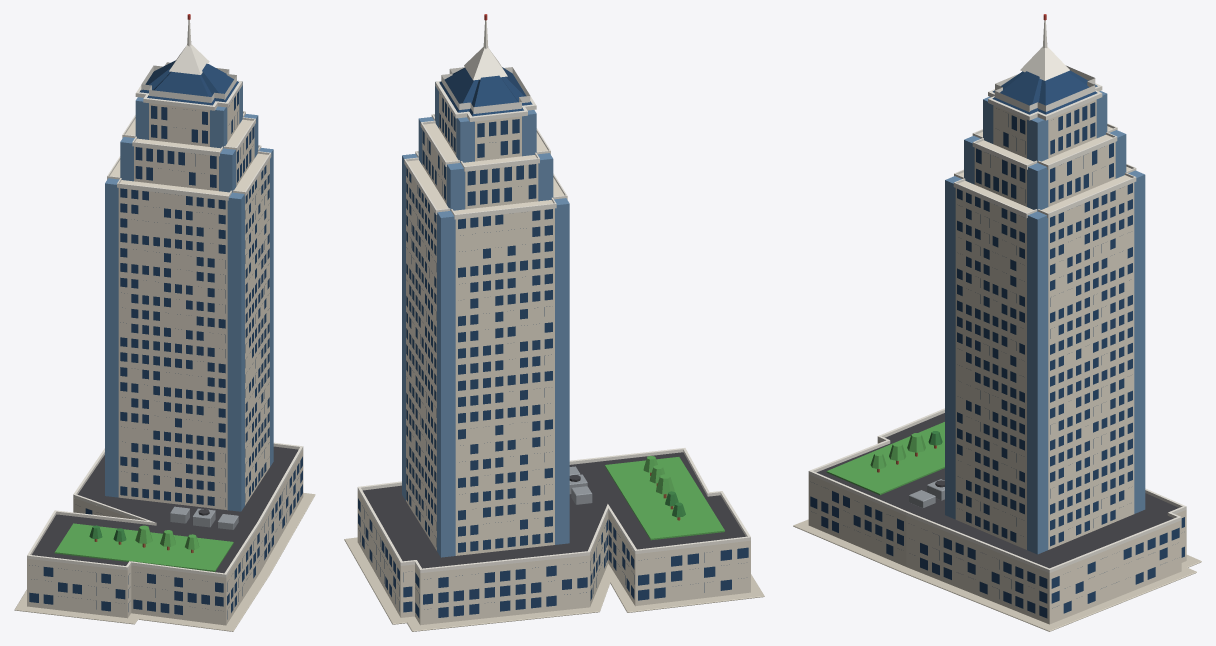
The model's file is 100-first.glb.
3 renders of one model, left to right at view 1: azimuth 30°, elevation 25°; view 2: azimuth 150°, elevation 25°; view 3: azimuth 270°, elevation 25°, orthographic. The views are drawn at different scales.
Parts seen in each view (by area): view 1: 100-first_body, 100-first_night_glow; view 2: 100-first_body, 100-first_night_glow; view 3: 100-first_body, 100-first_night_glow.
Boxes of the visible parts, x1,y1,x2,y2 form: 100-first_body: (14,19,315,631); 100-first_night_glow: (29,14,299,620); 100-first_body: (344,20,764,631); 100-first_night_glow: (357,14,748,619); 100-first_body: (793,20,1201,631); 100-first_night_glow: (810,14,1184,618).
Size of the model in its own units: 95.49 by 136 by 91.77.
